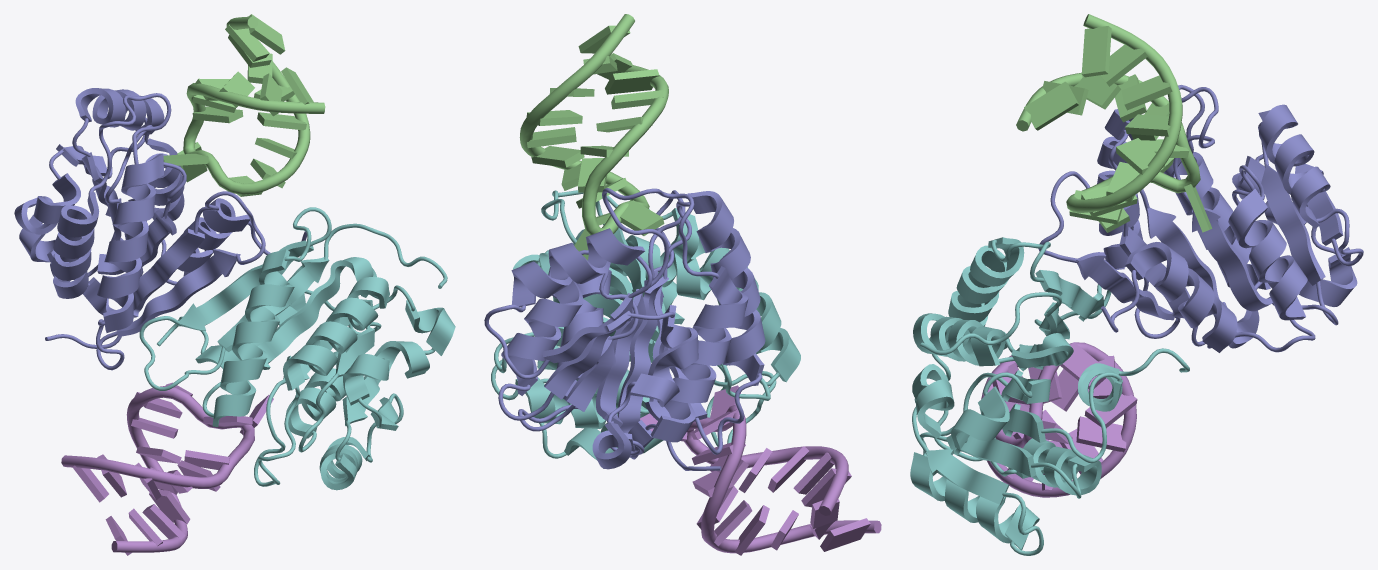
The model's file is 8H1B_folds.fbx.
3 renders of one model, left to right at view 1: azimuth 30°, elevation 25°; view 2: azimuth 150°, elevation 25°; view 3: azimuth 270°, elevation 25°, orthographic. The views are drawn at different scales.
Parts seen in each view (by area): view 1: 8H1B_folds; view 2: 8H1B_folds; view 3: 8H1B_folds.
Boxes of the visible parts, bbox=[...] form: 8H1B_folds: bbox=[14, 14, 455, 555]; 8H1B_folds: bbox=[484, 14, 881, 555]; 8H1B_folds: bbox=[910, 14, 1363, 555].
Bounding box in the file's own units: 56.89 × 77.43 × 59.72.
